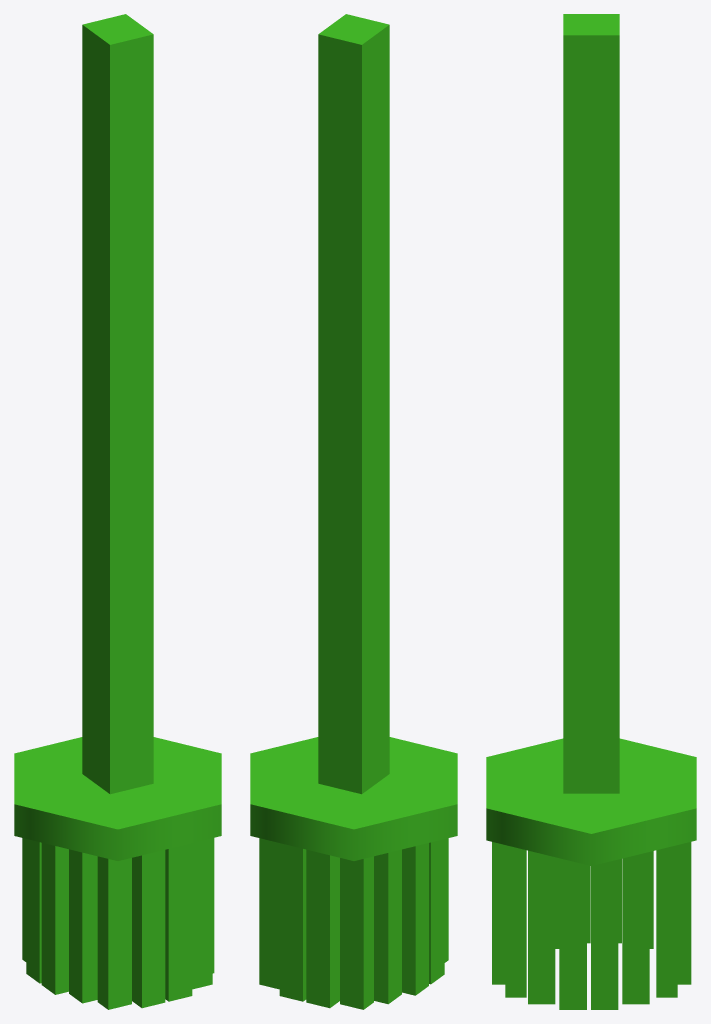
File: felmoso.FBX
3 renders of one model, left to right at view 1: azimuth 30°, elevation 25°; view 2: azimuth 150°, elevation 25°; view 3: azimuth 270°, elevation 25°, orthographic.
Parts seen in each view (by area): view 1: felmoso; view 2: felmoso; view 3: felmoso.
Part boxes in pixels (box(x1,y1,x2,y2)): felmoso: box(14, 14, 221, 1009); felmoso: box(250, 14, 457, 1009); felmoso: box(486, 14, 696, 1009).
Bounding box in the file's own units: 70.1 × 302 × 60.71.
